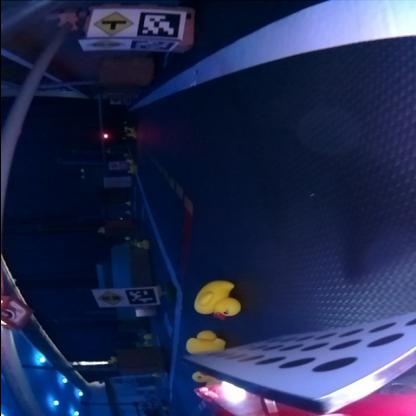Duckie: (192, 282, 240, 318), (184, 332, 224, 354), (136, 240, 148, 250), (127, 166, 136, 172), (126, 132, 134, 138), (142, 334, 150, 340), (97, 228, 104, 234)
Duckiebot: (184, 316, 414, 415)
Intersection sign: (94, 13, 128, 36)
QR code: (137, 13, 177, 36), (128, 288, 156, 304), (129, 42, 171, 52)
Signal sign: (97, 292, 121, 307), (86, 41, 120, 51)
